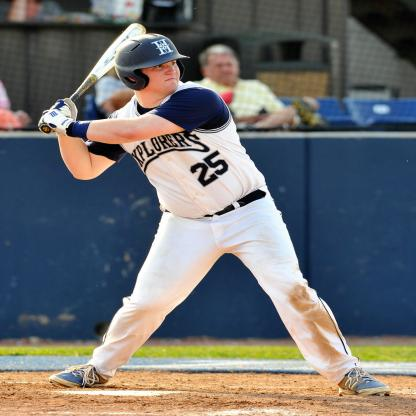Helmet: (98, 27, 186, 94)
